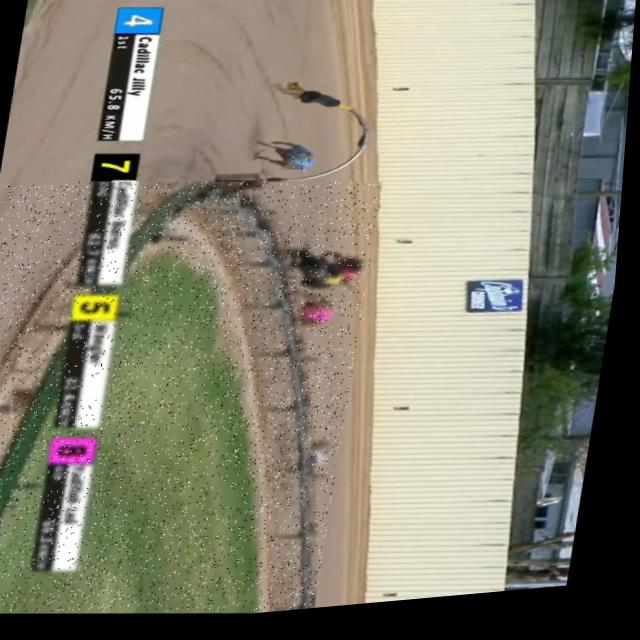dog_eight: (305, 315, 337, 334)
dog_five: (319, 280, 343, 298)
dog_four: (283, 160, 314, 177)
dog_one: (338, 276, 361, 293)
dog_seven: (301, 274, 331, 292)
dog_two: (311, 459, 332, 477)
rail: (0, 186, 323, 616)
